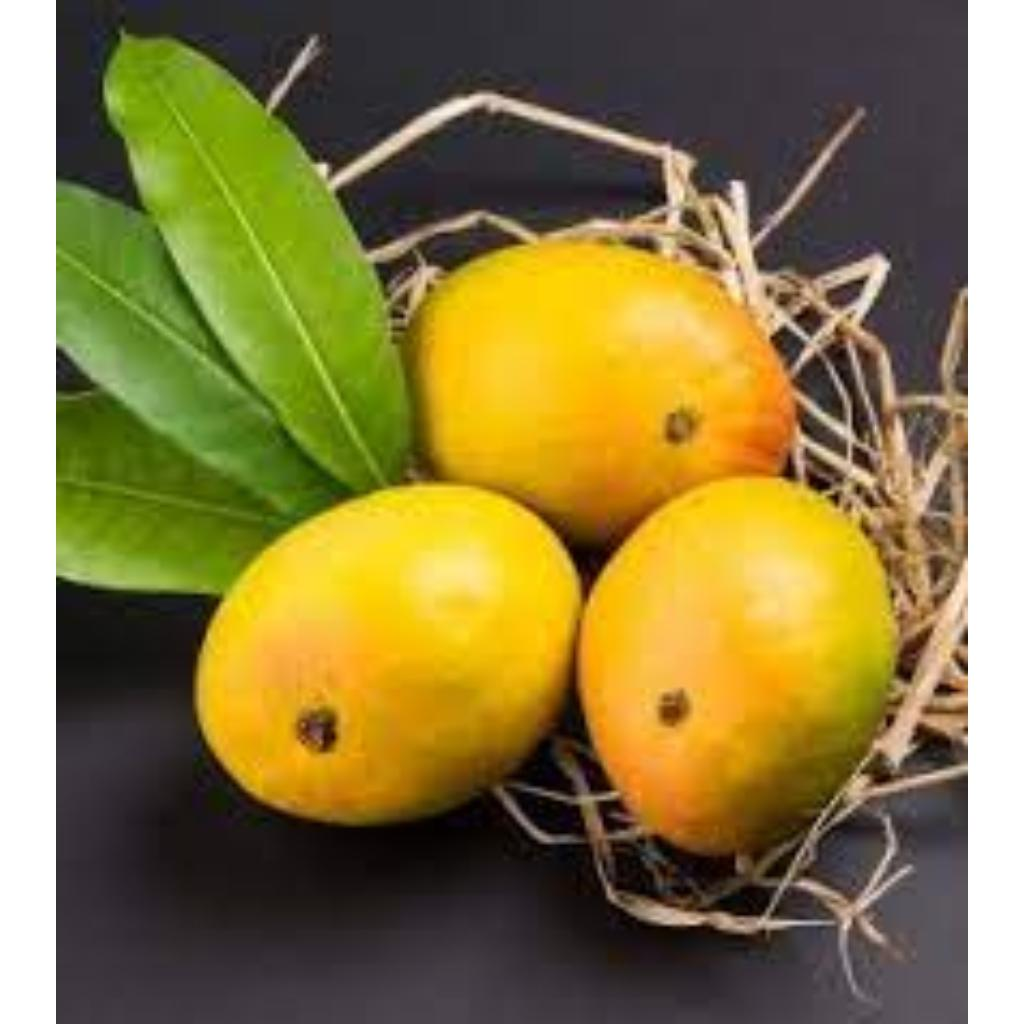mango: (384, 226, 816, 565), (194, 482, 585, 835), (577, 455, 896, 853)
